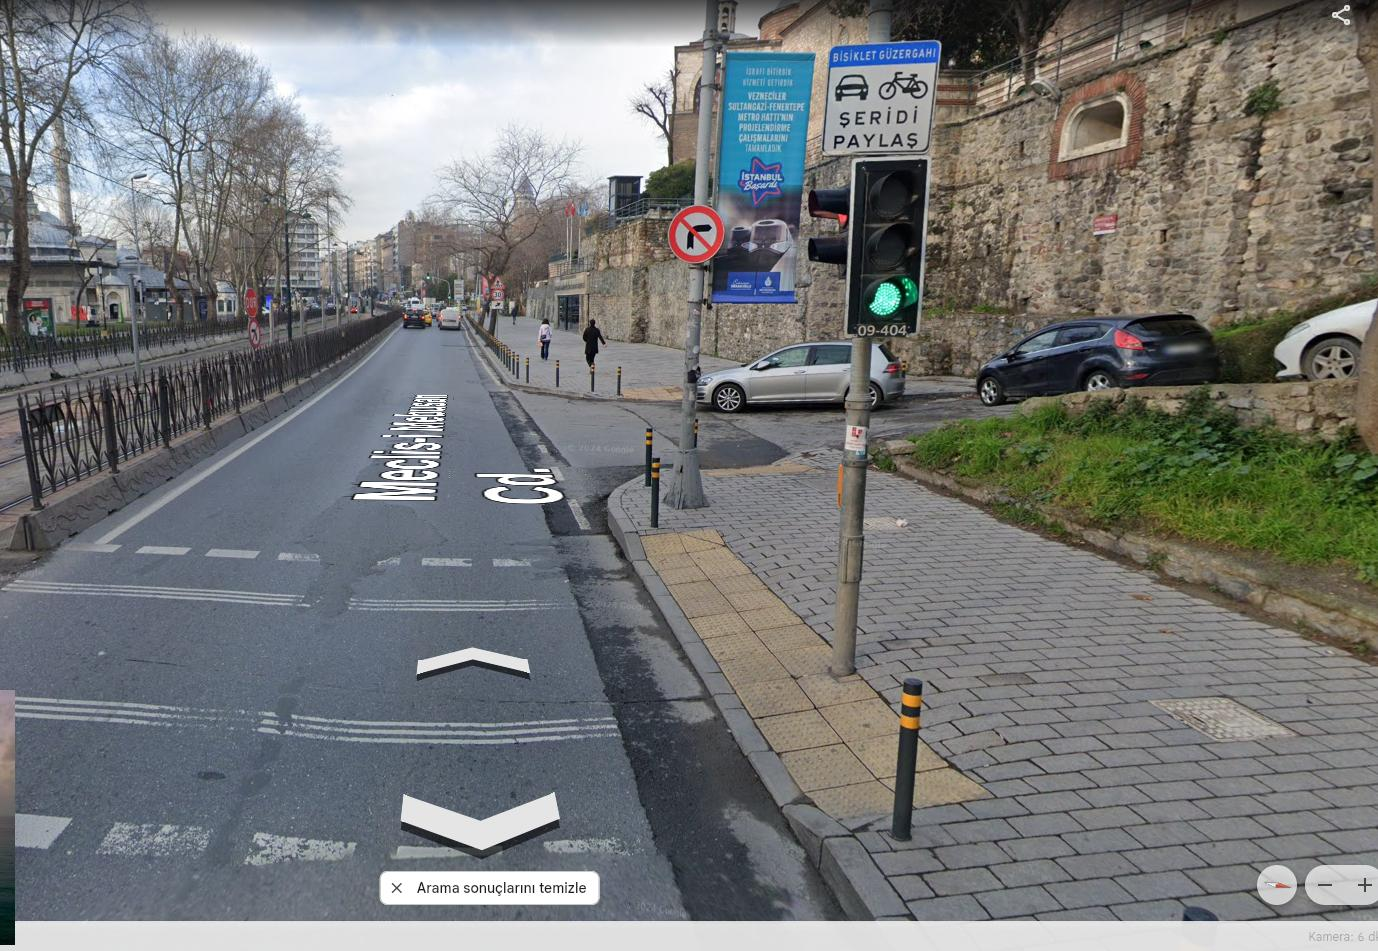greenlight: (855, 158, 921, 339), (448, 292, 451, 301), (426, 272, 429, 280)
leftturnsareforbidden: (249, 320, 261, 344)
rightturnsareforbidden: (668, 204, 723, 261)
stop: (244, 290, 260, 316)
